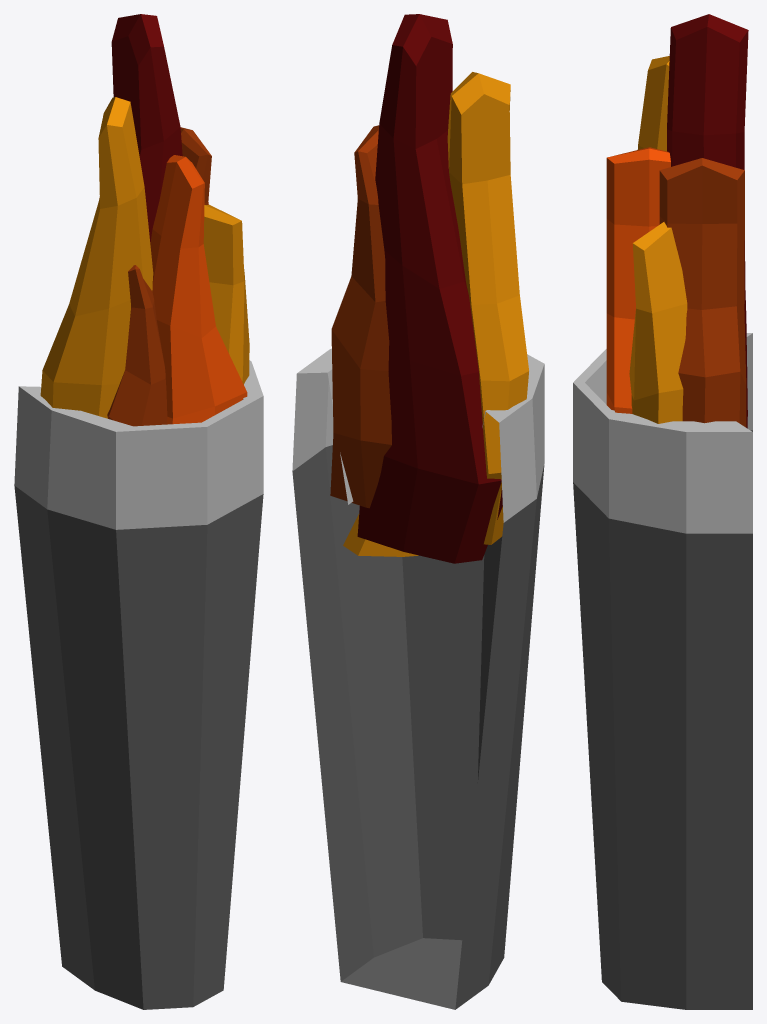
Rendered from prop_torch.FBX.
3 renders of one model, left to right at view 1: azimuth 30°, elevation 25°; view 2: azimuth 150°, elevation 25°; view 3: azimuth 270°, elevation 25°, orthographic.
Parts seen in each view (by area): view 1: Cylinder003; view 2: Cylinder003; view 3: Cylinder003.
Part boxes in pixels (left/top/right/bottom): Cylinder003: left=14, top=14, right=263, bottom=1009; Cylinder003: left=292, top=14, right=544, bottom=1009; Cylinder003: left=573, top=14, right=752, bottom=1009.
Size of the model in its own units: 0.6221 by 2.72 by 0.4578.
